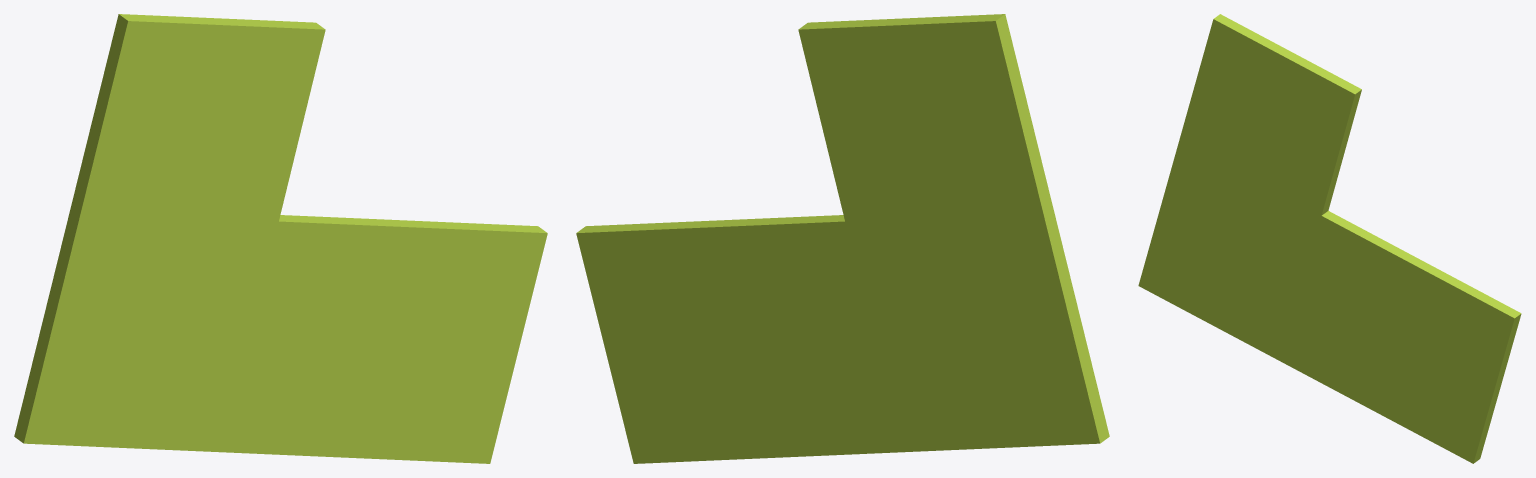
The picture shows the model from 3 angles, left to right: view 1: azimuth 30°, elevation 25°; view 2: azimuth 150°, elevation 25°; view 3: azimuth 330°, elevation 25°; orthographic projection. The views are drawn at different scales.
Parts seen in each view (by area): view 1: osm-way27917482-F-1; view 2: osm-way27917482-F-1; view 3: osm-way27917482-F-1.
Boxes of the visible parts, <box> form: osm-way27917482-F-1: <box>14,14,547,463</box>; osm-way27917482-F-1: <box>576,14,1109,463</box>; osm-way27917482-F-1: <box>1138,14,1521,463</box>.
Size of the model in its own units: 4.73 by 4.58 by 0.15.
